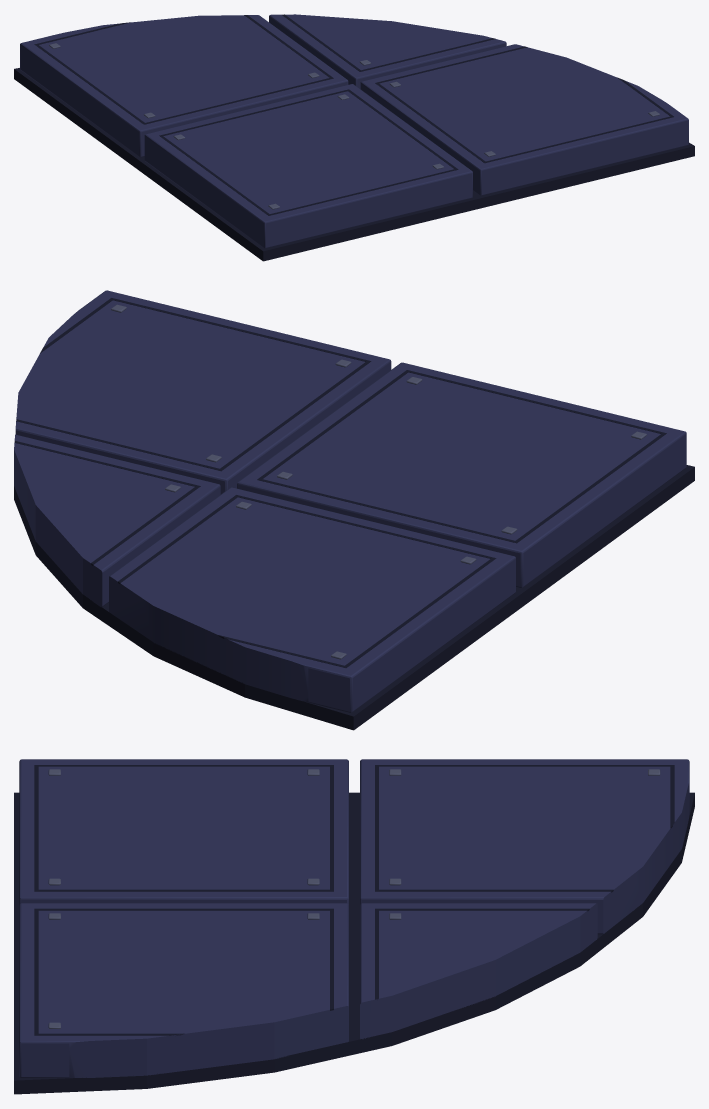
The model's file is roof.arc2.plate.glb.
3 renders of one model, top to bottom at view 1: azimuth 30°, elevation 25°; view 2: azimuth 150°, elevation 25°; view 3: azimuth 270°, elevation 25°, orthographic. The views are drawn at different scales.
Visible parts, largest first — view 1: GEO-roof.arc2.plate; view 2: GEO-roof.arc2.plate; view 3: GEO-roof.arc2.plate.
Boxes of the visible parts, x1,y1,x2,y2 form: GEO-roof.arc2.plate: [14, 14, 694, 261]; GEO-roof.arc2.plate: [14, 290, 694, 730]; GEO-roof.arc2.plate: [14, 759, 694, 1094].
Size of the model in its own units: 2 by 0.17 by 2.
